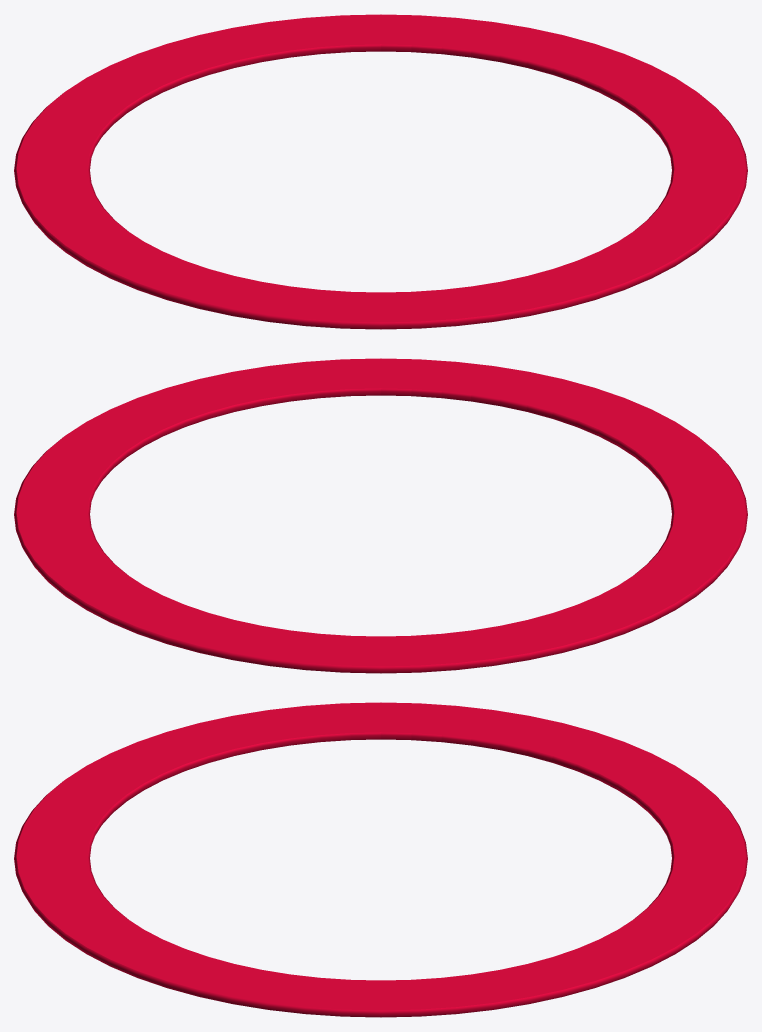
File: Code_Cylinder_Wheel_01.fbx
3 renders of one model, top to bottom at view 1: azimuth 30°, elevation 25°; view 2: azimuth 150°, elevation 25°; view 3: azimuth 270°, elevation 25°, orthographic.
Parts seen in each view (by area): view 1: Code_Cylinder_Wheel_01; view 2: Code_Cylinder_Wheel_01; view 3: Code_Cylinder_Wheel_01.
Boxes of the visible parts, bbox=[...] form: Code_Cylinder_Wheel_01: bbox=[14, 14, 747, 329]; Code_Cylinder_Wheel_01: bbox=[14, 358, 747, 673]; Code_Cylinder_Wheel_01: bbox=[14, 702, 747, 1017].
Bounding box in the file's own units: 204 × 2.15 × 204.
